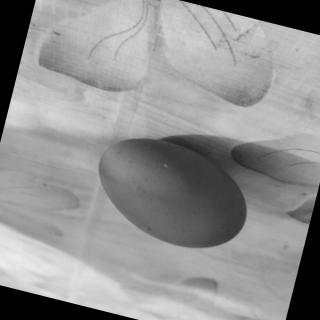Telur: (81, 124, 265, 263)
